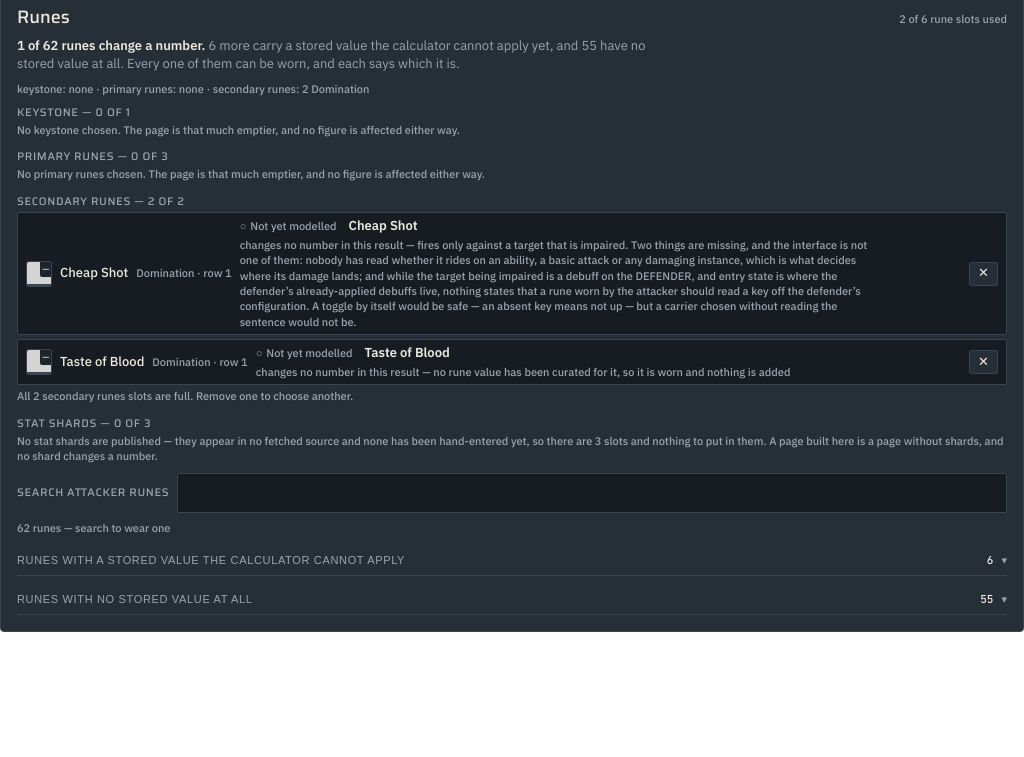
Test case: runes/wearing and removing › a full destination stops offering adds and says why, per destination
The image size is (1024, 757).
Focus the search field labelled "Search attacker runes": (592, 493) 177,473 -> 1007,513
(page scrolled)
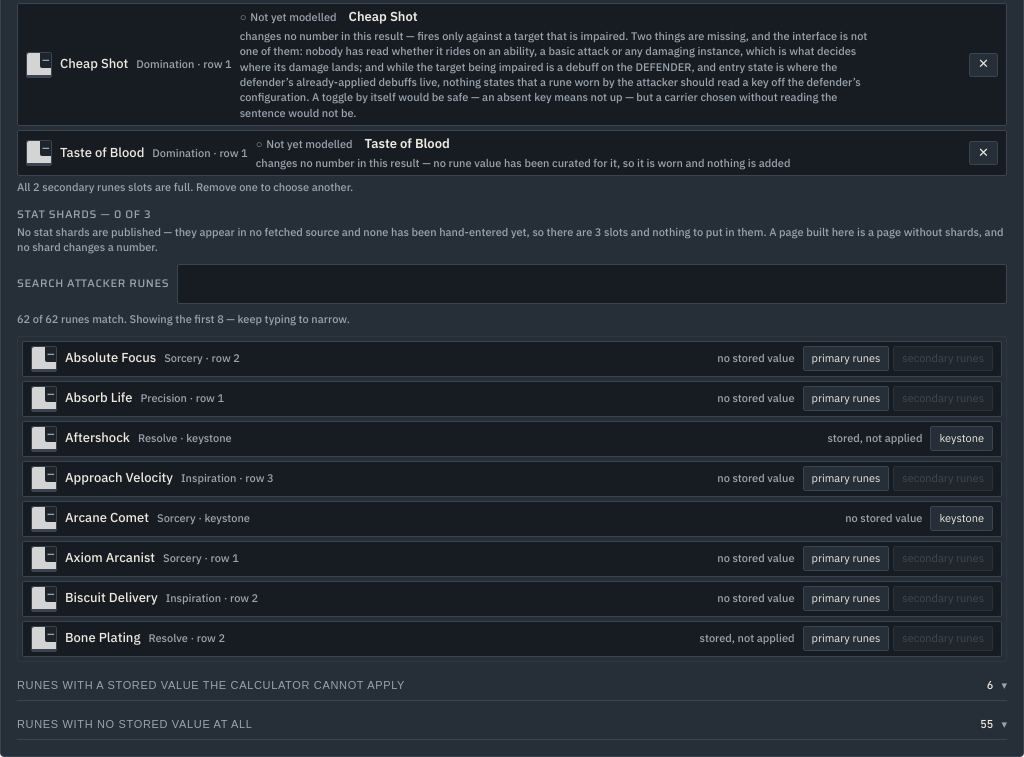
Expected: the button with aria-label "Wear " is disabled, 893,346 -> 993,371
